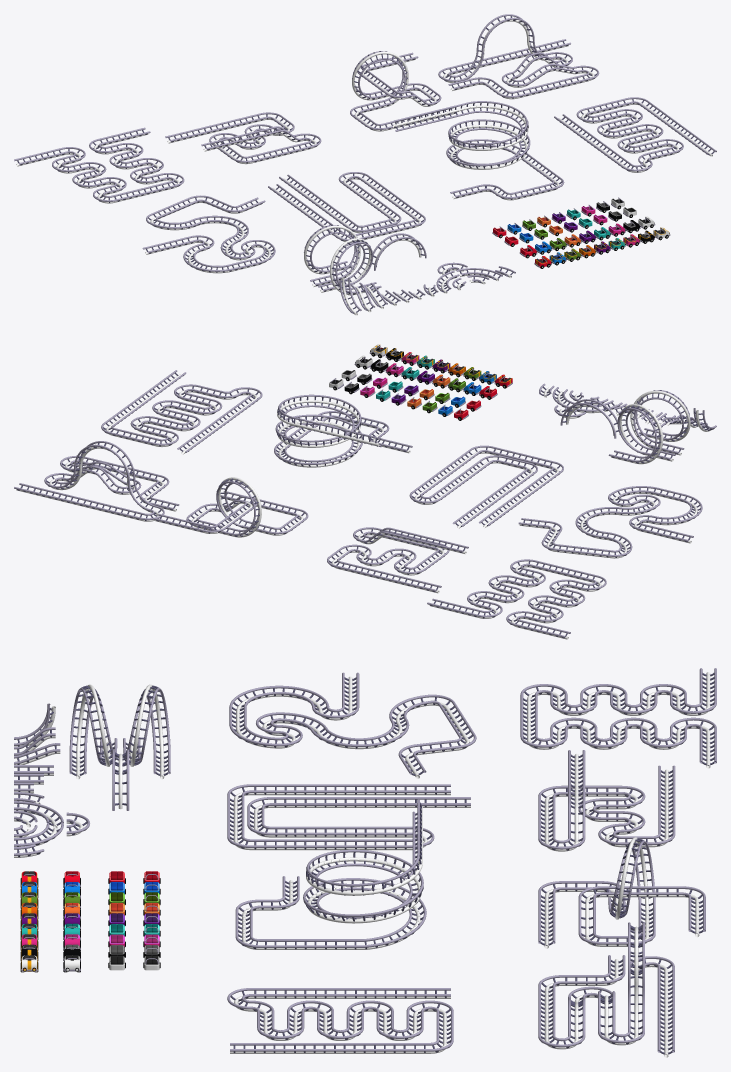
Rendered from rollercoaster.fbx.
3 renders of one model, top to bottom at view 1: azimuth 30°, elevation 25°; view 2: azimuth 150°, elevation 25°; view 3: azimuth 270°, elevation 25°, orthographic. The views are drawn at different scales.
Visible parts, largest first — view 1: Plane.048, Plane.309, Plane.300, Plane.310, Plane.335, Plane.337; view 2: Plane.048, Plane.300, Plane.310, Plane.309, Plane.335, Plane.337; view 3: Plane.048, Plane.310, Plane.300, Plane.309, Plane.337, Plane.335, Plane.053, Plane.334.
Boxes of the visible parts, x1,y1,x2,y2 form: Plane.048: (392,101,540,169); Plane.309: (352,51,408,112); Plane.300: (304,225,360,287); Plane.310: (318,238,381,295); Plane.335: (477,14,534,51); Plane.337: (372,233,426,270); Plane.048: (274,394,381,467); Plane.300: (608,404,675,464); Plane.310: (630,390,690,455); Plane.309: (207,477,273,537); Plane.335: (74,441,134,480); Plane.337: (560,399,619,438); Plane.048: (303,799,426,949); Plane.310: (69,684,117,779); Plane.300: (123,684,170,779); Plane.309: (608,837,655,929); Plane.337: (112,749,129,810); Plane.335: (628,922,644,983); Plane.053: (235,893,299,920); Plane.334: (628,981,644,1036).
Size of the model in its own units: 14430 by 1426 by 11216.
